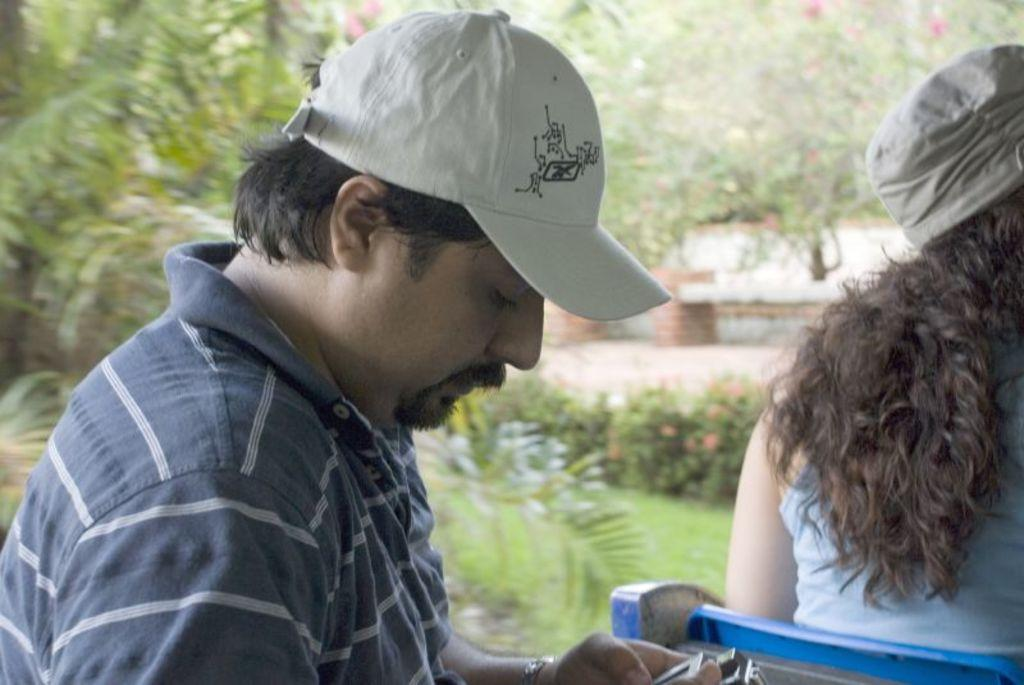Hat: (280, 4, 676, 320), (866, 41, 1022, 256)
